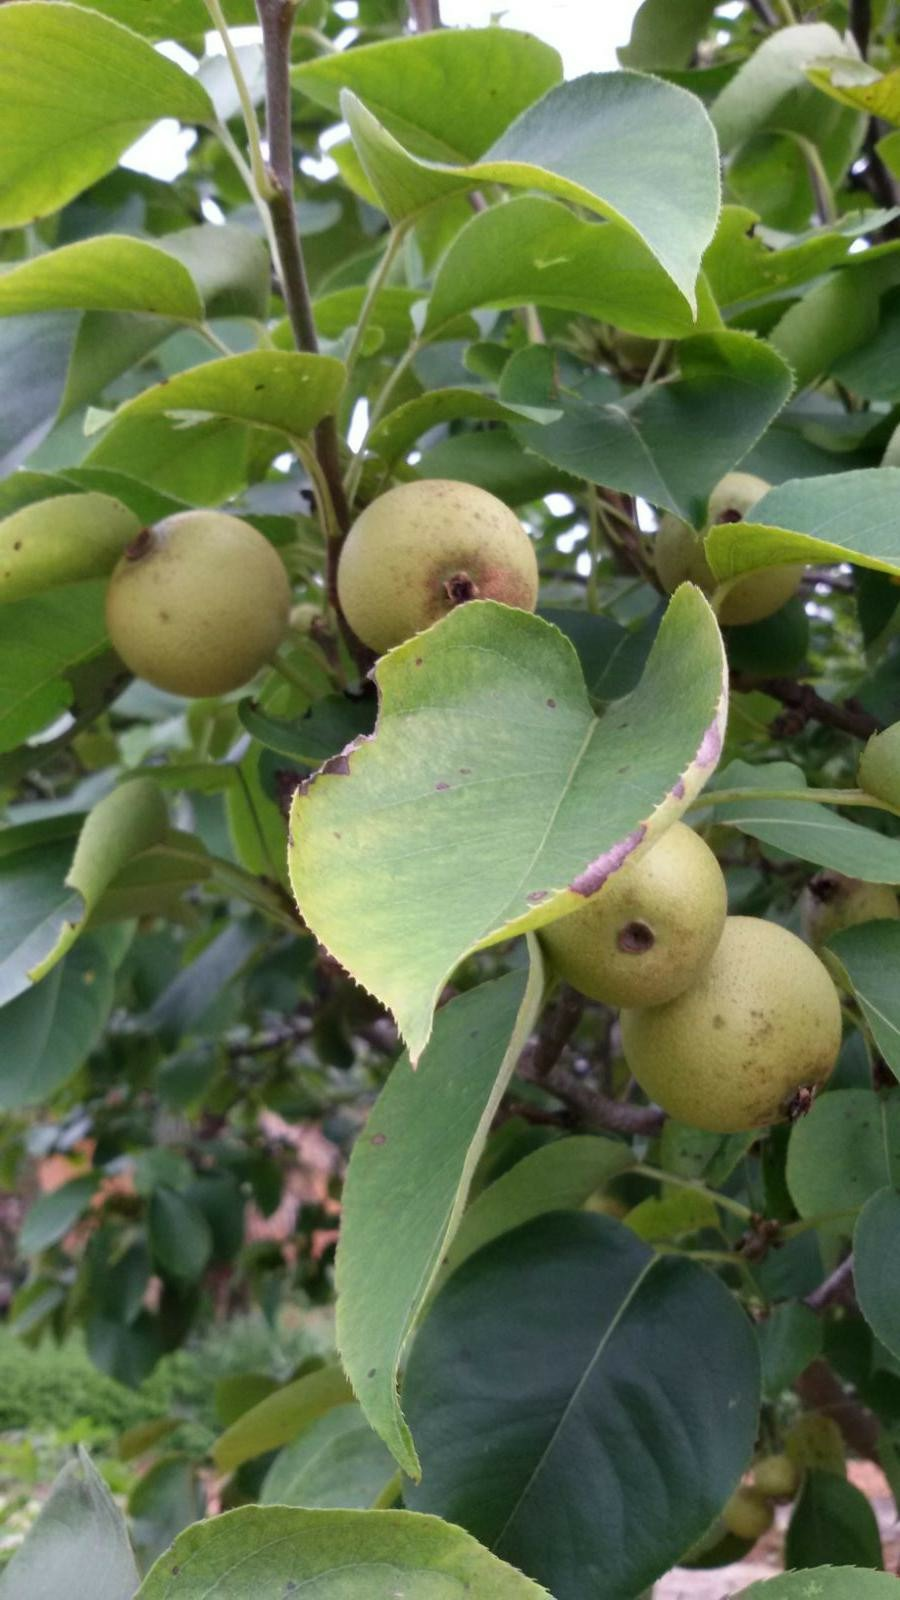pear: (620, 913, 846, 1147), (336, 475, 534, 666), (543, 812, 725, 1013), (105, 505, 287, 702)
